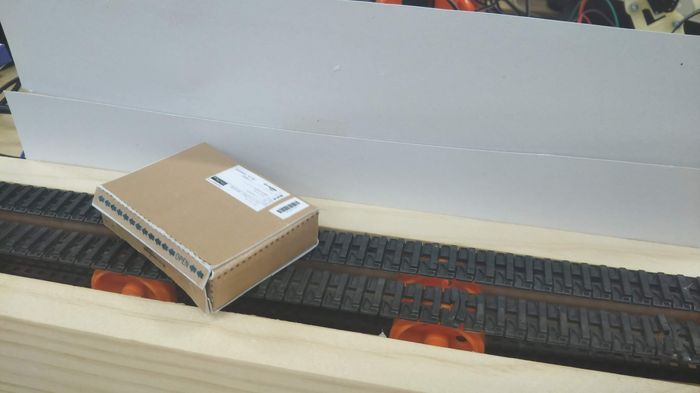box2: (92, 141, 320, 312)
